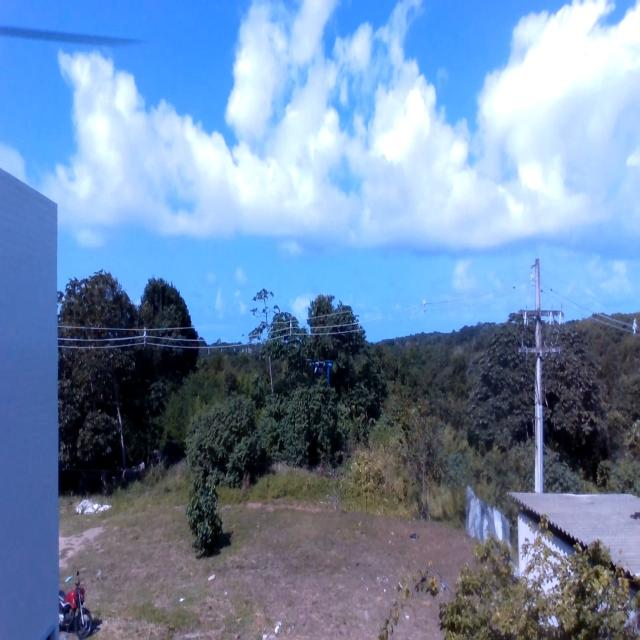-uav-: (308, 350, 334, 382)
